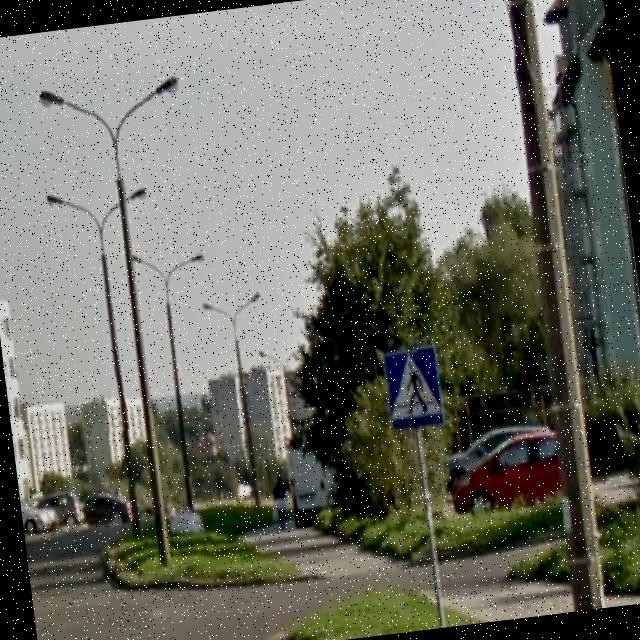Przejscie dla pieszych: (383, 345, 444, 431)
